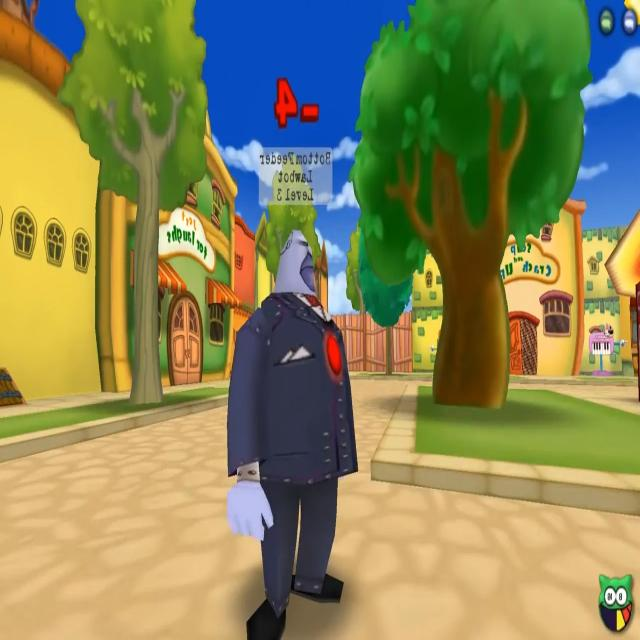bottomfeeder: (232, 142, 354, 640)
